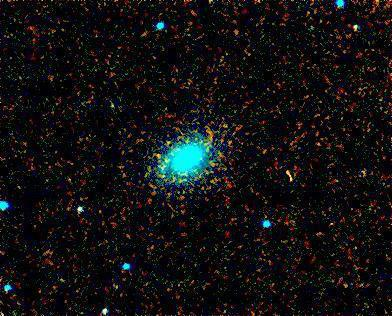star: (145, 141, 175, 171)
